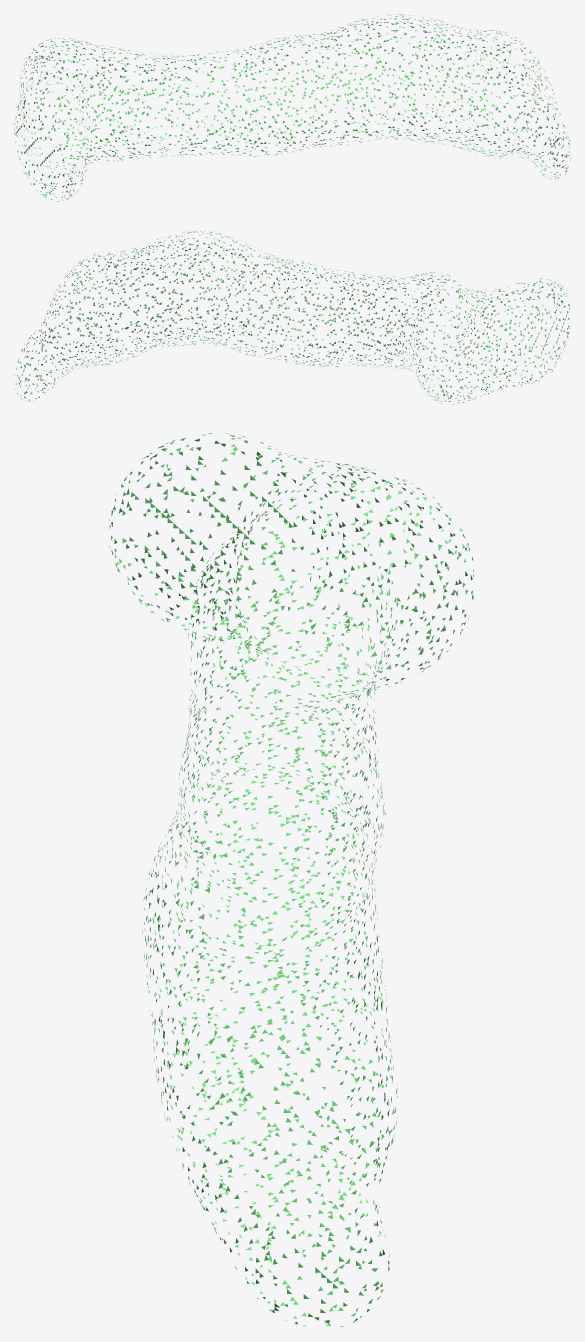
Rendered from morph_018.glb.
The picture shows the model from 3 angles, top to bottom: view 1: azimuth 30°, elevation 25°; view 2: azimuth 150°, elevation 25°; view 3: azimuth 270°, elevation 25°; orthographic projection. The views are drawn at different scales.
Bounding box in the file's own units: 146 × 60.83 × 46.52.
